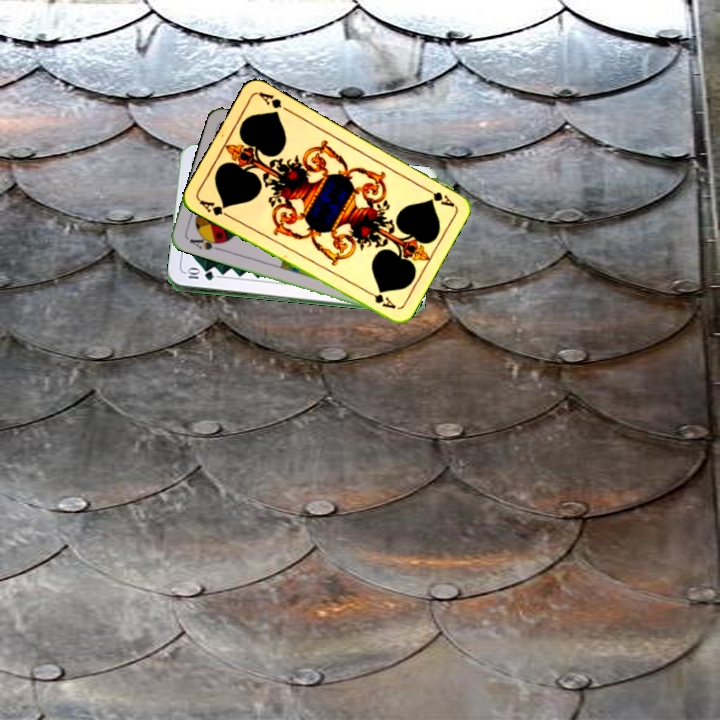G10: (182, 268, 217, 283)
GA: (419, 183, 457, 209), (195, 196, 233, 221)
SA: (185, 231, 225, 253)
